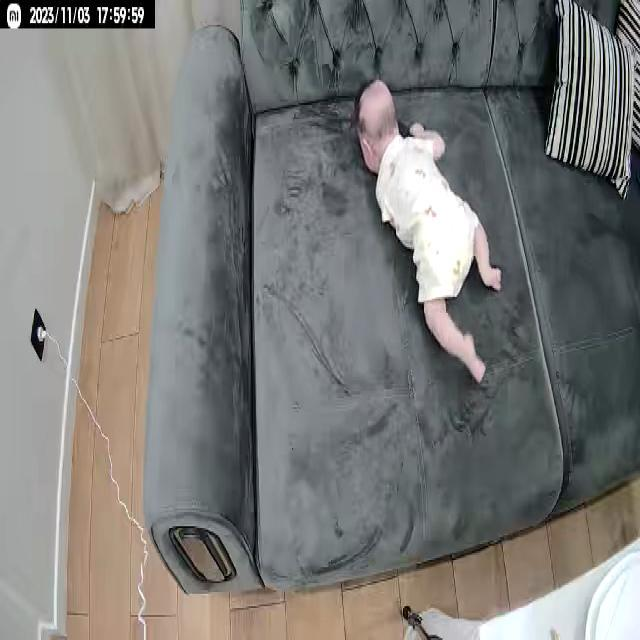baby: (353, 76, 506, 391)
